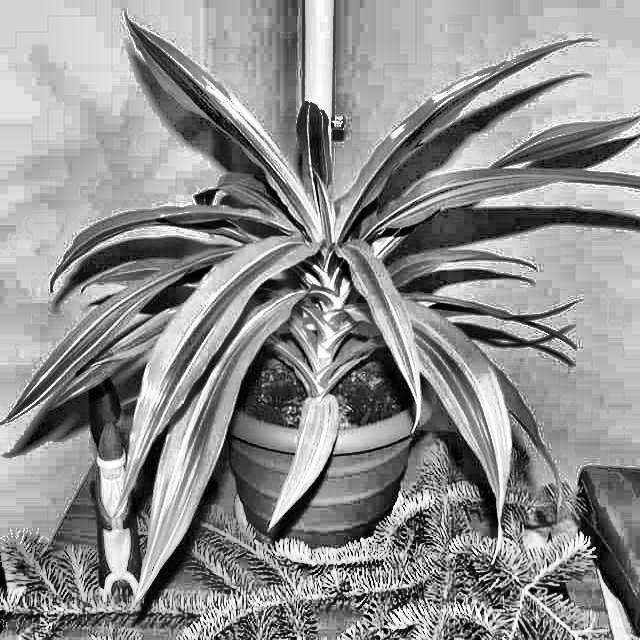plants: (4, 22, 632, 520)
